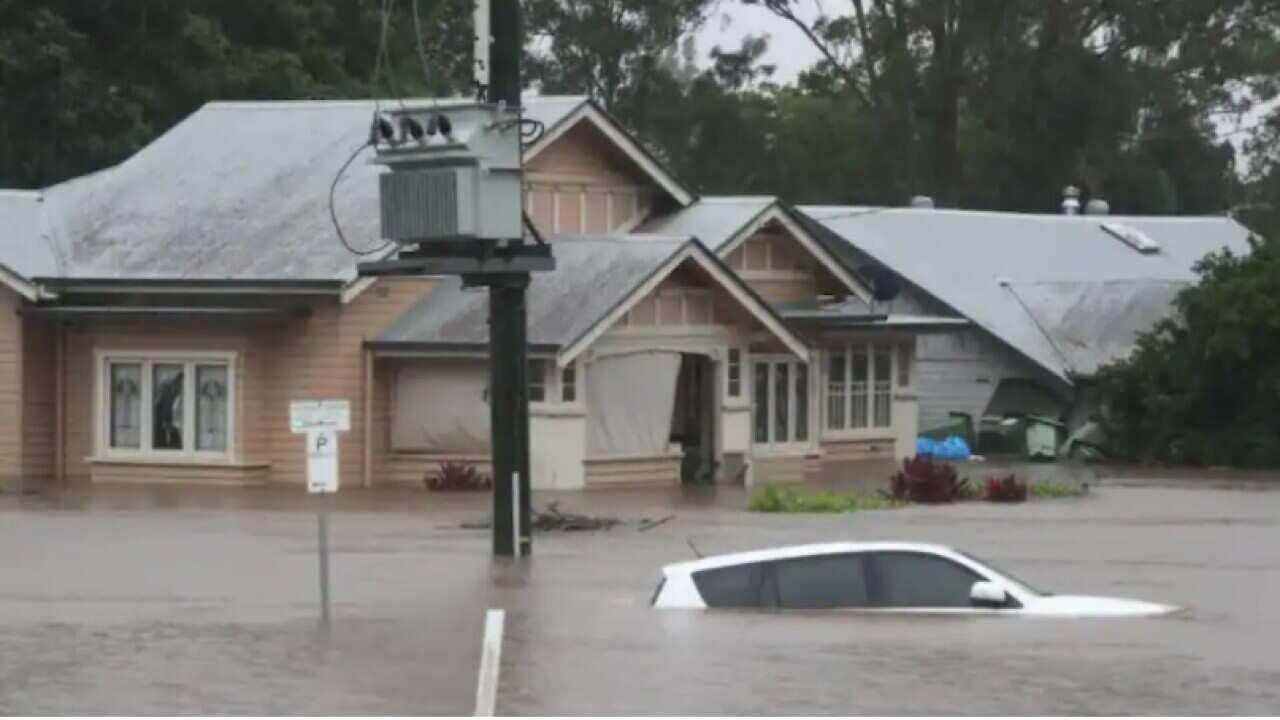water: (0, 466, 1279, 719)
